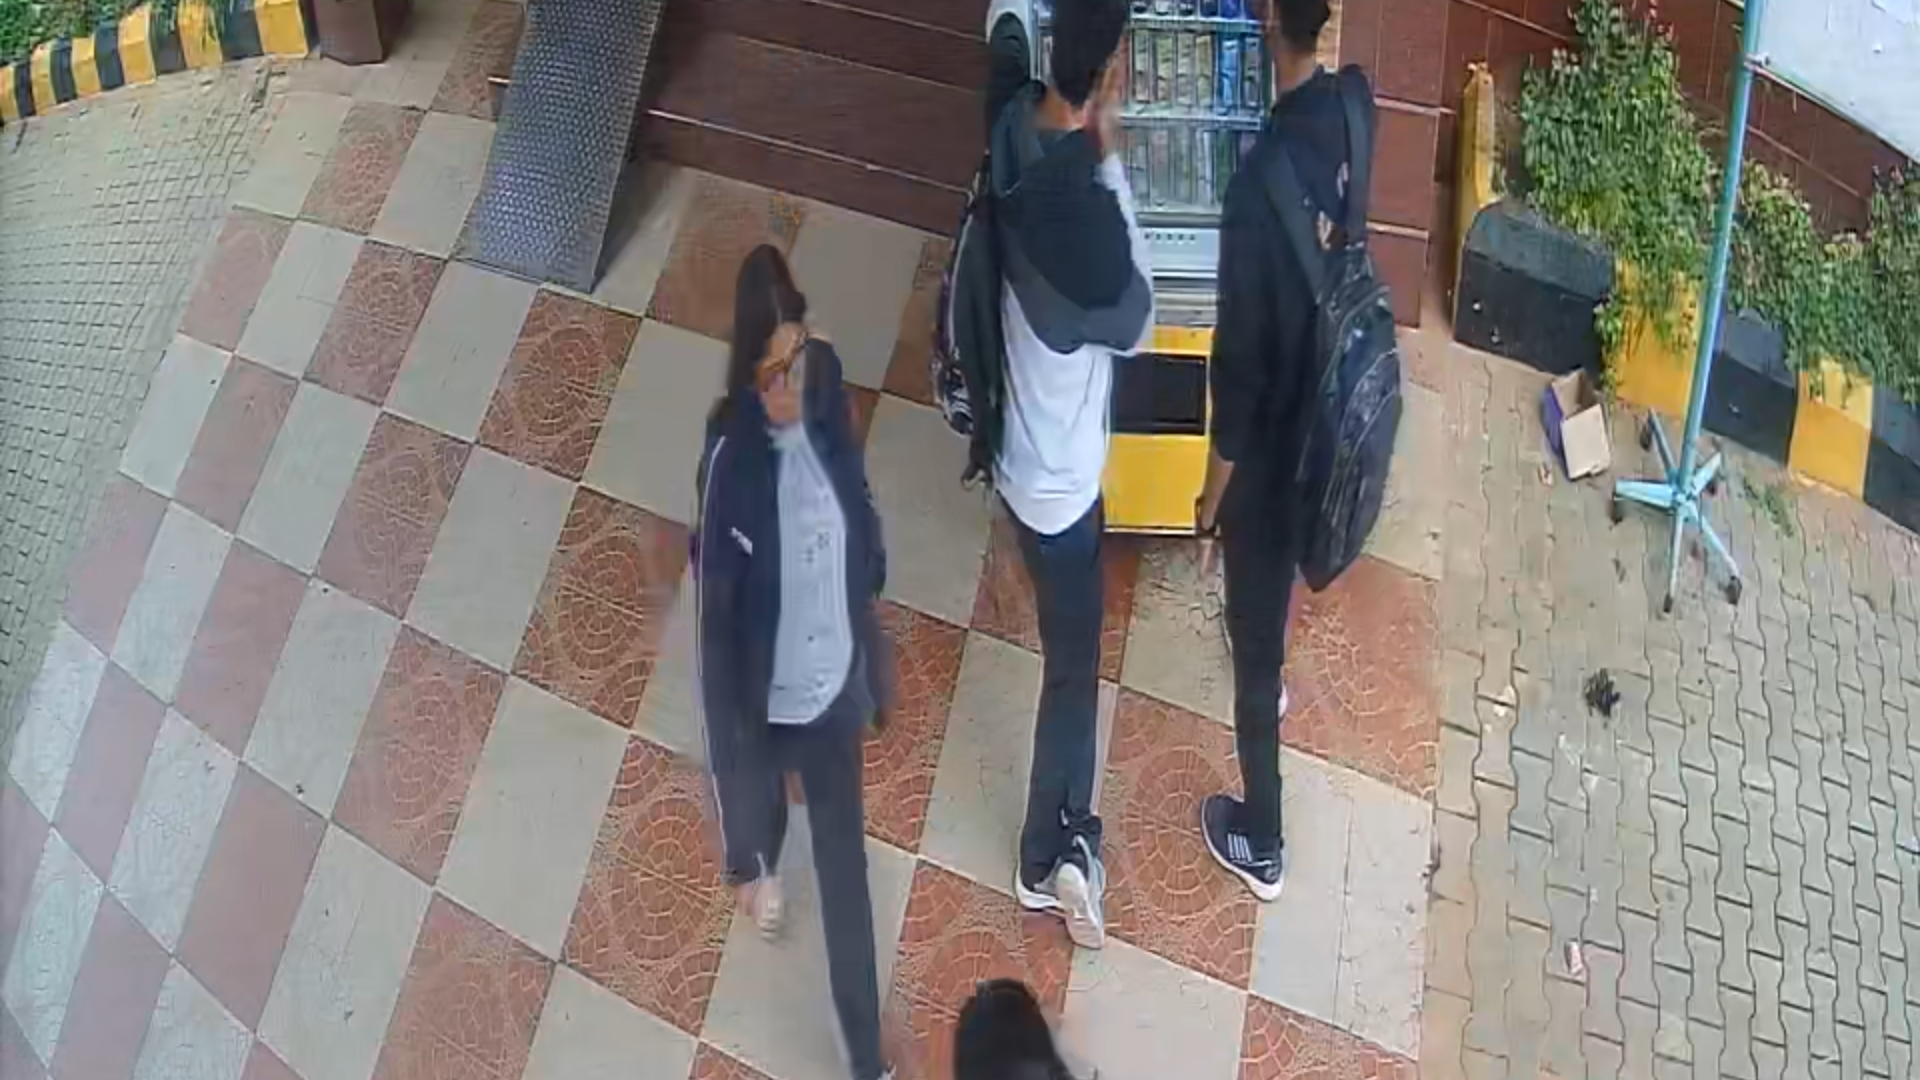intruder: (711, 233, 947, 1080)
